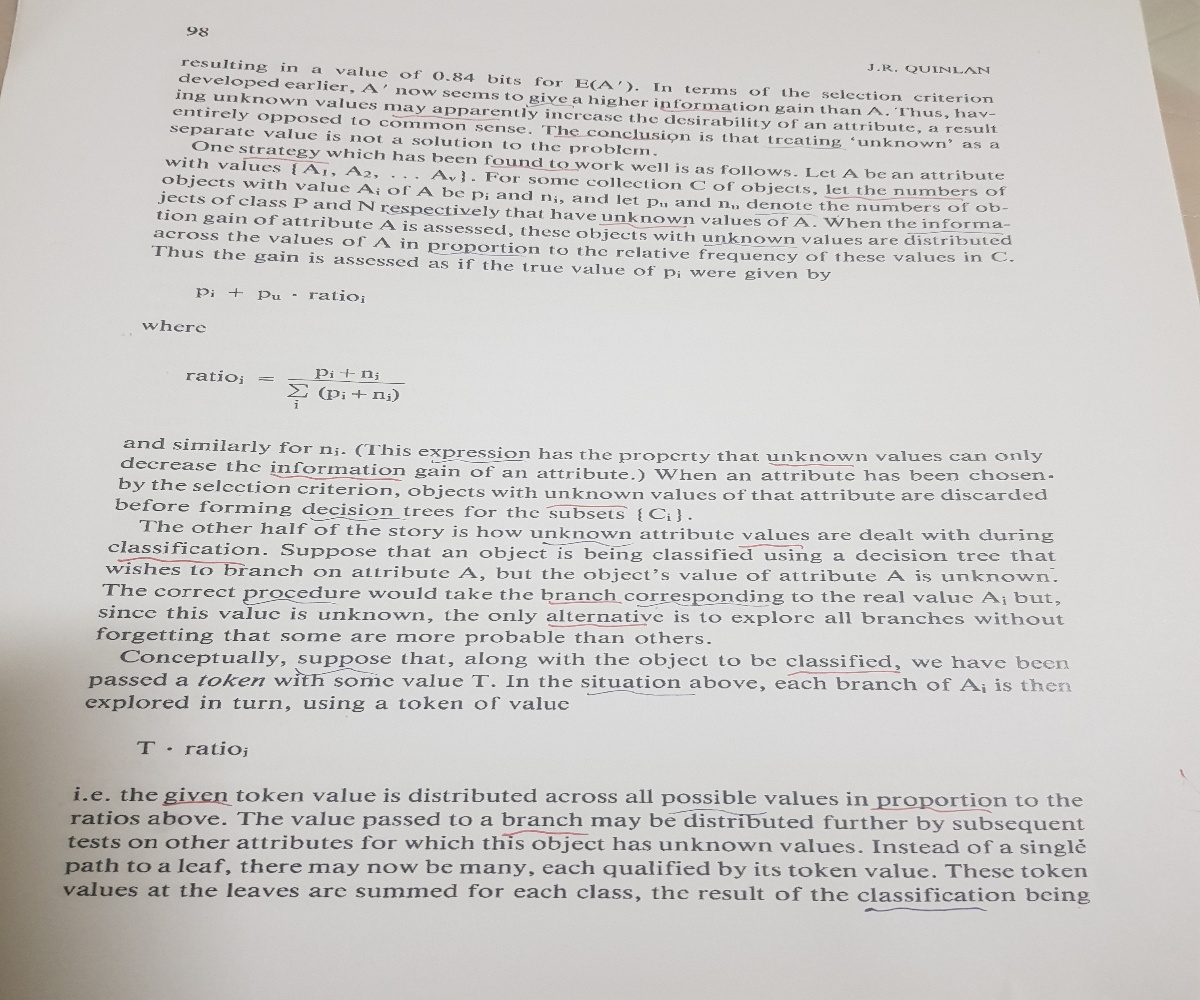underline: (863, 900, 991, 918), (117, 551, 250, 566), (267, 470, 406, 483), (871, 804, 999, 817), (428, 246, 538, 260), (636, 598, 774, 609), (537, 535, 640, 549), (584, 688, 696, 700), (787, 667, 908, 678), (389, 111, 499, 123), (554, 131, 684, 141), (547, 620, 649, 632), (241, 595, 342, 607), (307, 513, 407, 525), (500, 827, 592, 840), (487, 160, 578, 173), (669, 805, 766, 817), (702, 240, 798, 252), (822, 193, 965, 201), (240, 152, 333, 164), (597, 219, 689, 231), (762, 141, 846, 154), (906, 227, 1012, 236), (292, 664, 378, 675), (425, 455, 526, 464), (160, 797, 236, 808), (544, 598, 627, 608), (769, 459, 856, 468), (658, 105, 734, 115), (543, 500, 632, 508), (738, 539, 808, 549), (753, 207, 813, 218), (525, 100, 573, 111)
